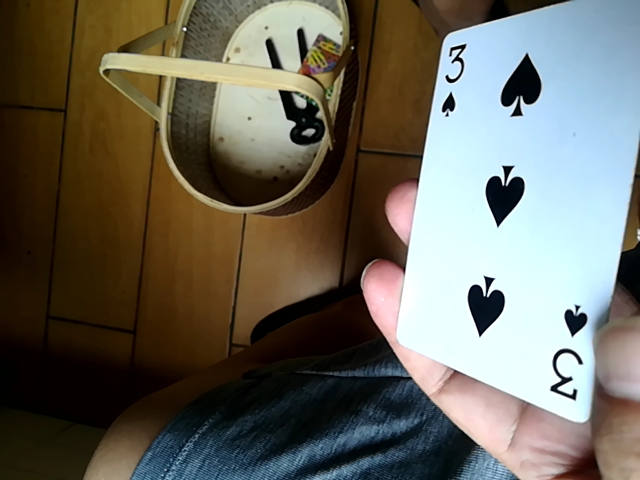ht 3: (392, 1, 638, 427)
